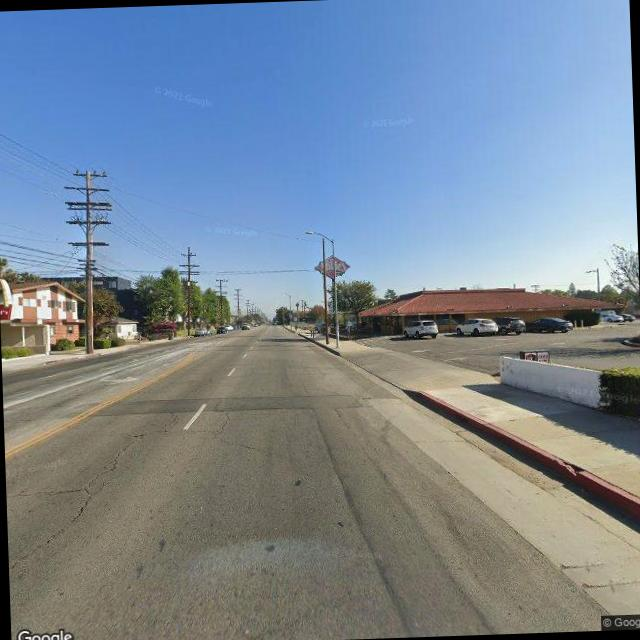crack: (22, 423, 152, 555), (5, 480, 84, 500), (133, 426, 223, 442)
